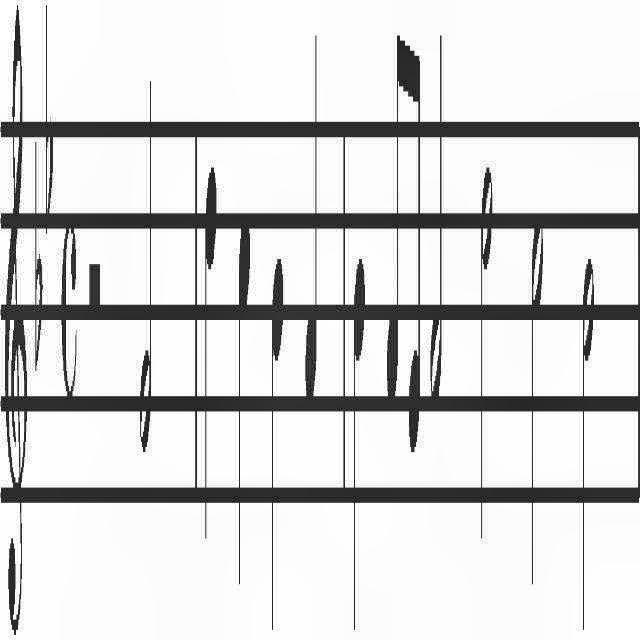Bass-clef: (4, 3, 27, 640)
Bemol: (46, 0, 54, 254), (34, 136, 42, 380)
Eighth-note: (385, 14, 403, 414), (406, 31, 422, 461)
Half-note: (138, 71, 154, 467), (430, 23, 444, 409), (480, 145, 492, 562), (532, 204, 544, 596), (582, 251, 594, 634)
Quarter-note: (352, 236, 366, 640), (204, 156, 218, 558), (237, 210, 251, 602), (304, 13, 318, 403), (272, 254, 284, 634)
